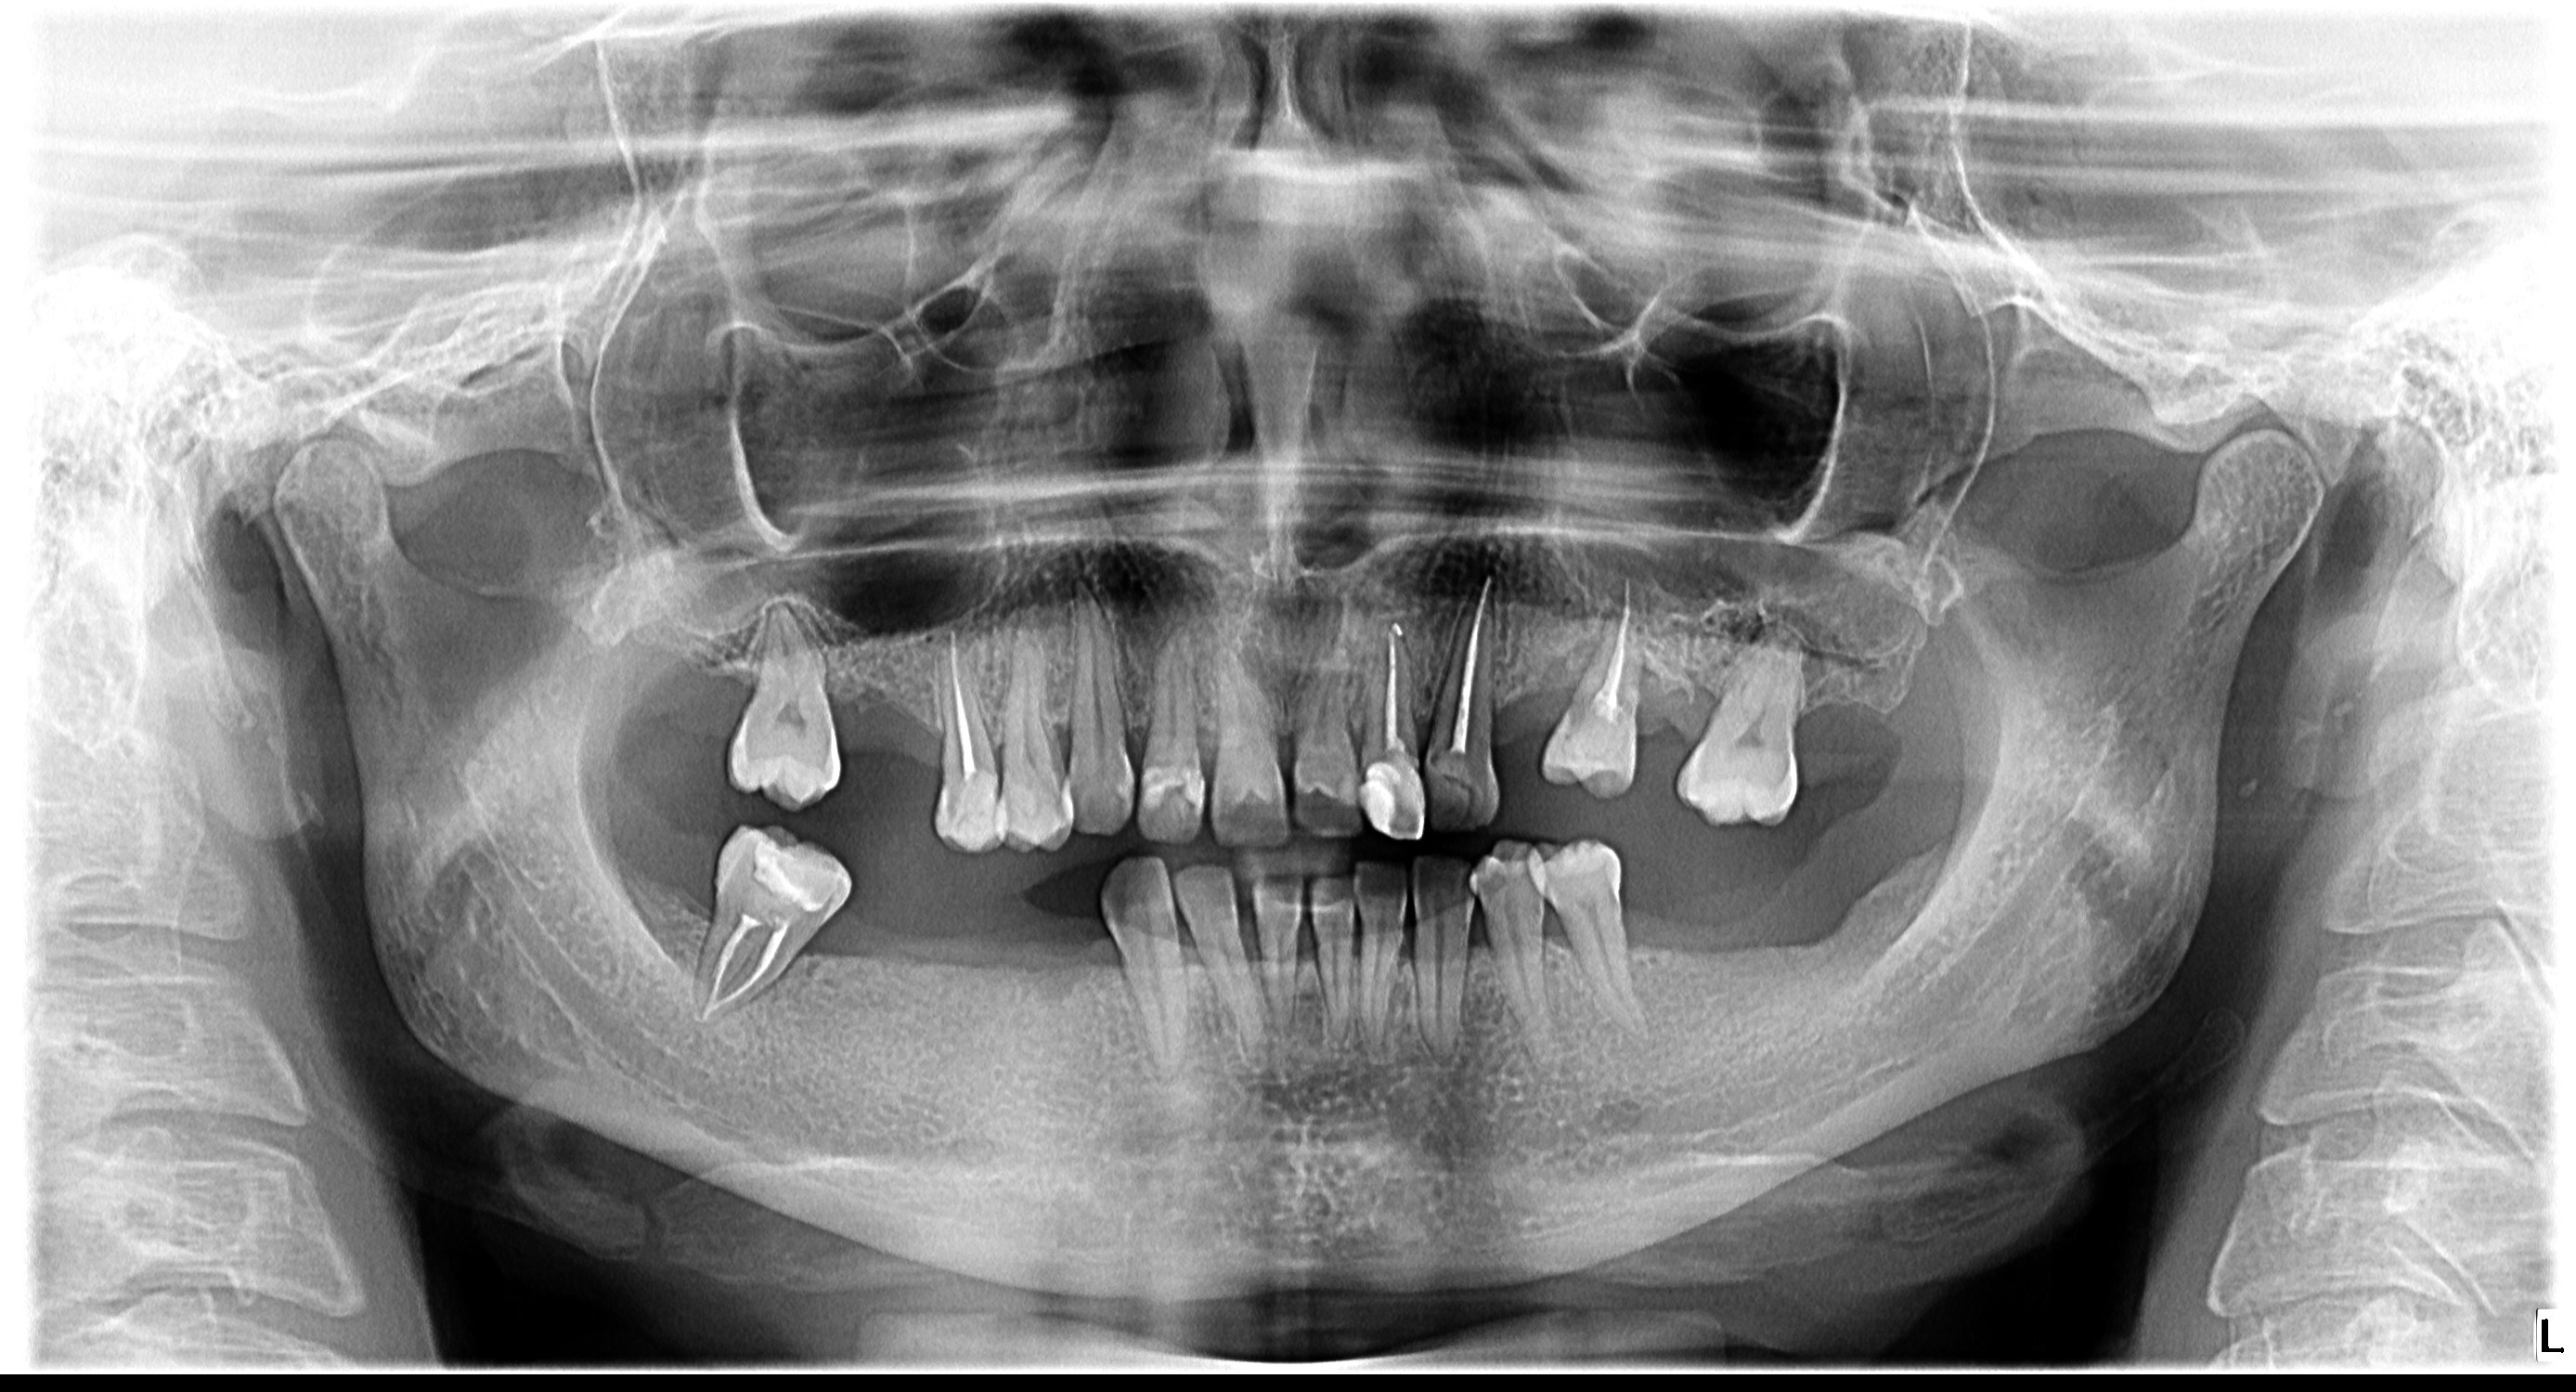END: (1437, 559, 1536, 742), (678, 912, 796, 1022), (1571, 571, 1648, 715), (1362, 602, 1427, 754), (930, 627, 993, 768)
OBT: (740, 828, 858, 914), (1577, 686, 1644, 814), (1350, 744, 1432, 847), (1139, 747, 1218, 818), (954, 756, 1002, 861), (1416, 747, 1482, 811), (1100, 758, 1139, 807)
